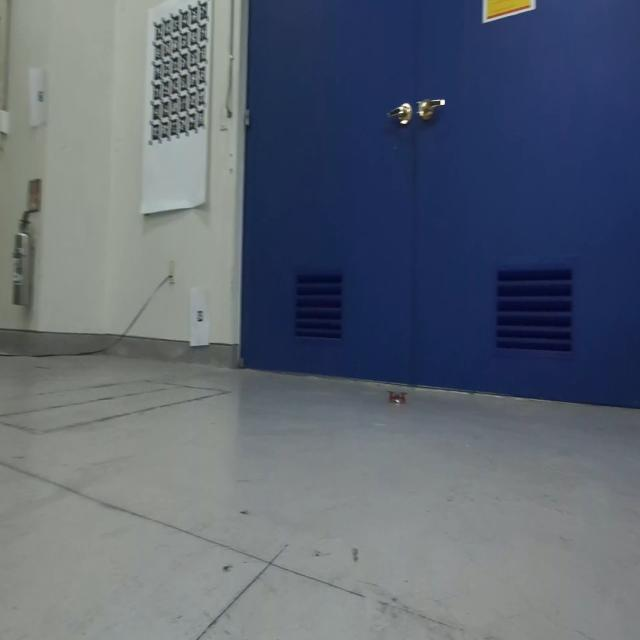crazyflie: (384, 384, 409, 412)
